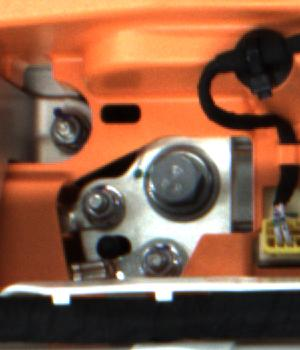nut_b: (139, 141, 222, 221)
